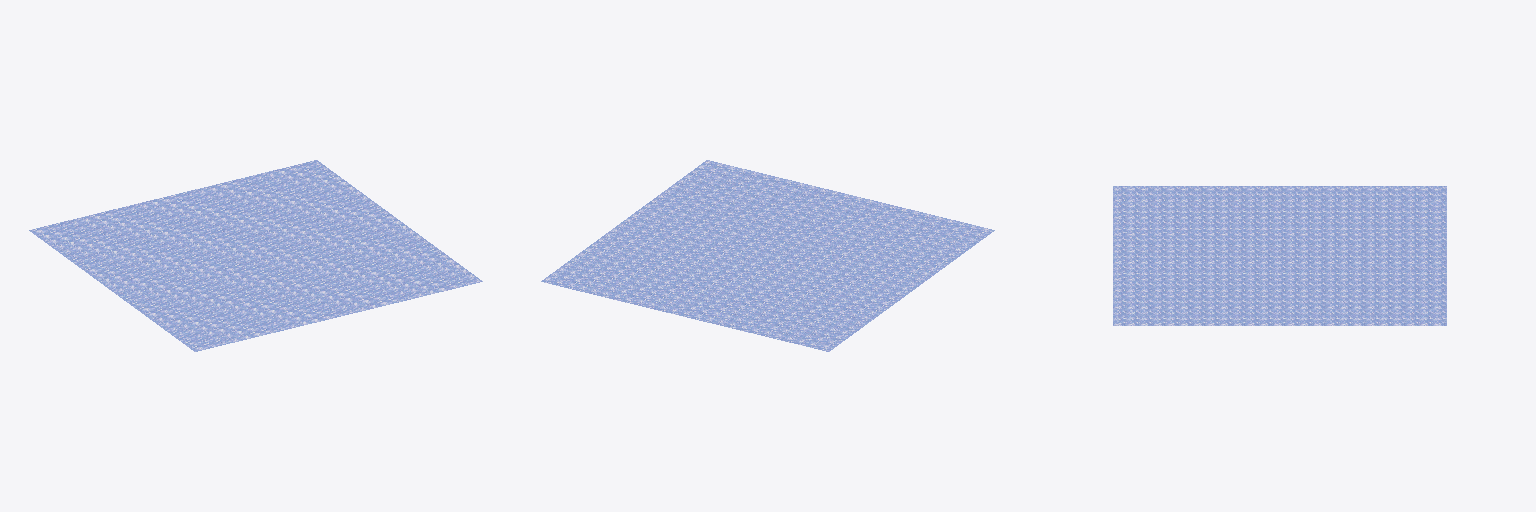
3 views of the same model, side by side, from view 1: azimuth 30°, elevation 25°; view 2: azimuth 150°, elevation 25°; view 3: azimuth 270°, elevation 25° (orthographic).
Visible parts, largest first — view 1: Plane; view 2: Plane; view 3: Plane.
Part boxes in pixels (x1,y1,x2,y2): Plane: (29,160,482,351); Plane: (541,160,994,351); Plane: (1113,186,1446,325).
Bounding box in the file's own units: 100 × 0 × 100.
Materials: 1 (1 with a texture image).